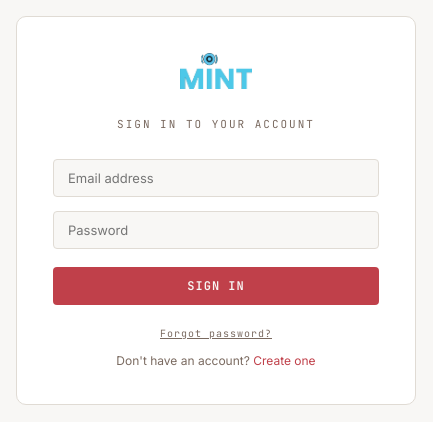
Test: Login page › shows reset form when "Forgot password?" is clicked
Click the button "Forgot password?": (216, 333) [160,326,272,340]
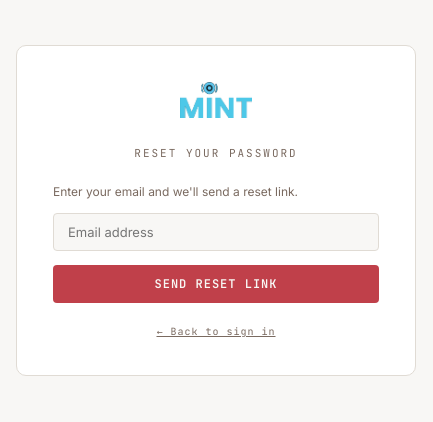
Check: the text "Reset your password" is shown, box [134,146,298,160]
